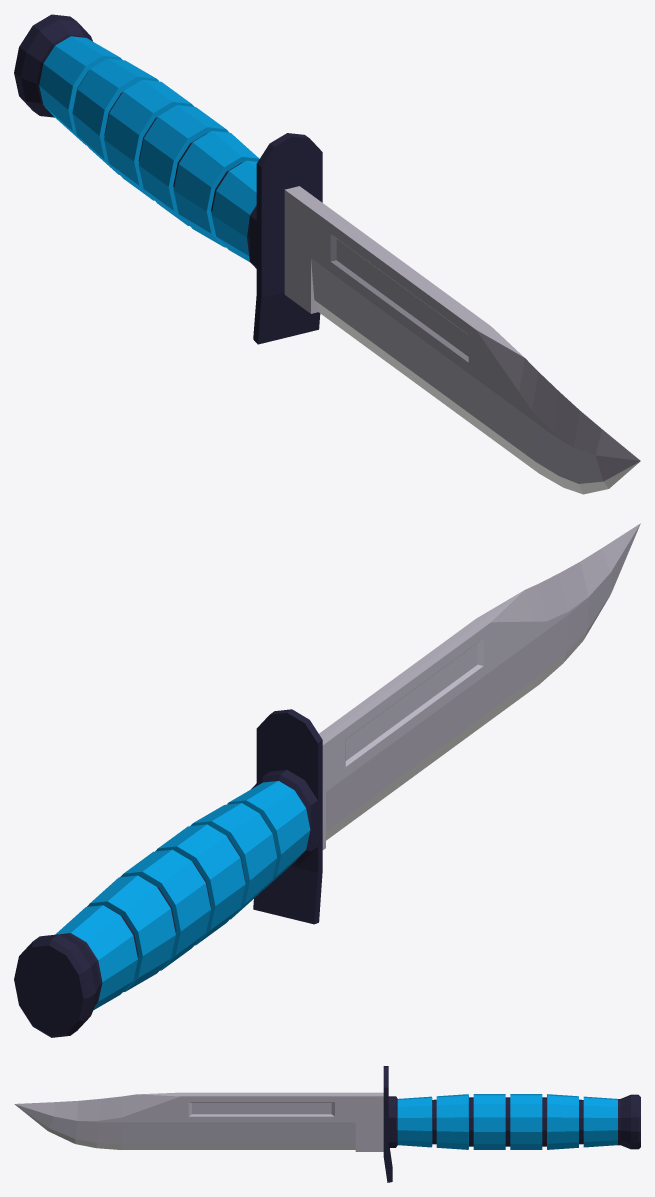
3 views of the same model, one above another, from view 1: azimuth 30°, elevation 25°; view 2: azimuth 150°, elevation 25°; view 3: azimuth 270°, elevation 25° (orthographic). The views are drawn at different scales.
Visible parts, largest first — view 1: Plane_1; view 2: Plane_1; view 3: Plane_1.
Part boxes in pixels (x1,y1,x2,y2): Plane_1: (14, 14, 640, 494); Plane_1: (14, 523, 640, 1037); Plane_1: (14, 1066, 640, 1182).
Size of the model in its own units: 0.3633 by 0.9178 by 4.84.
Materials: 1 (1 with a texture image).
